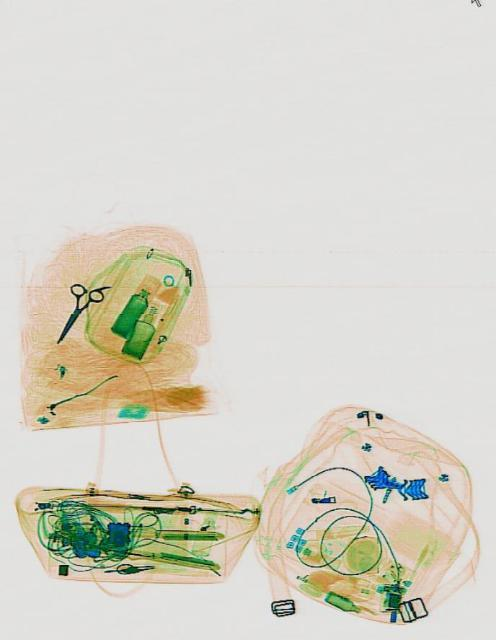Scissors: (43, 272, 103, 354)
